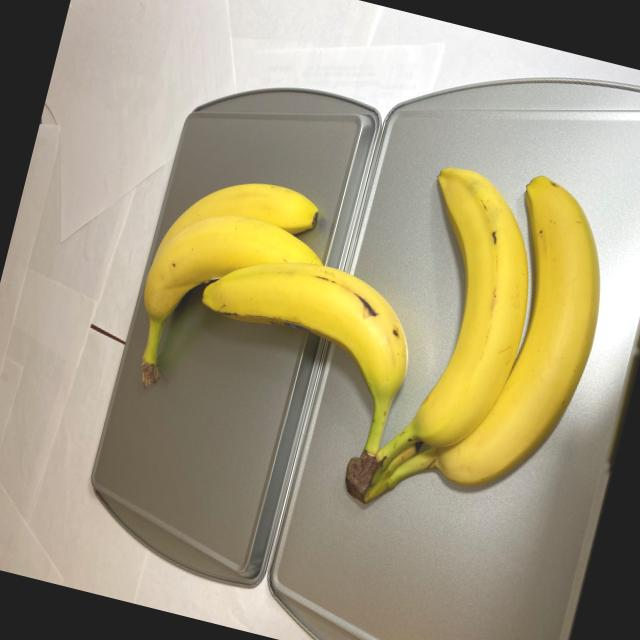banana: (109, 77, 637, 549)
